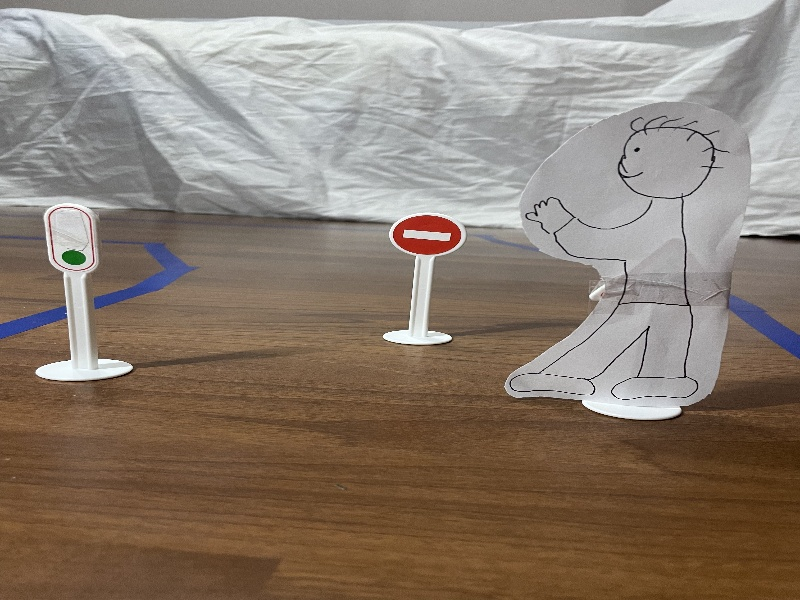interzis: (390, 208, 472, 263)
persoana: (501, 90, 756, 432)
semafor_verde: (33, 195, 118, 277)
